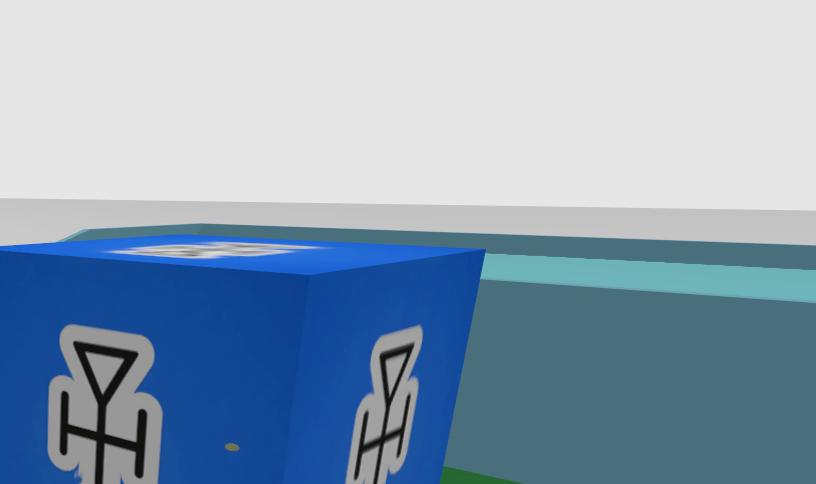KFS_REAL: (0, 233, 482, 484), (47, 326, 162, 484), (345, 327, 422, 484)
